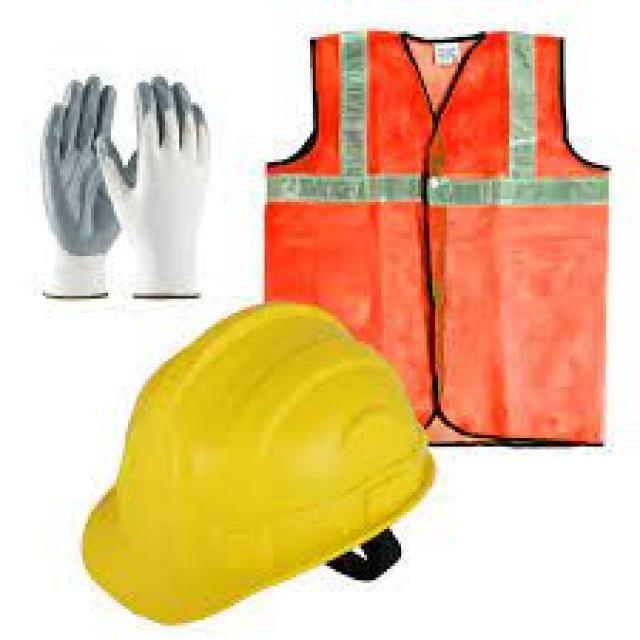construction-vest: (264, 25, 612, 451)
helmet: (78, 299, 437, 630)
